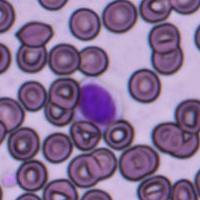L: (70, 75, 123, 130)
